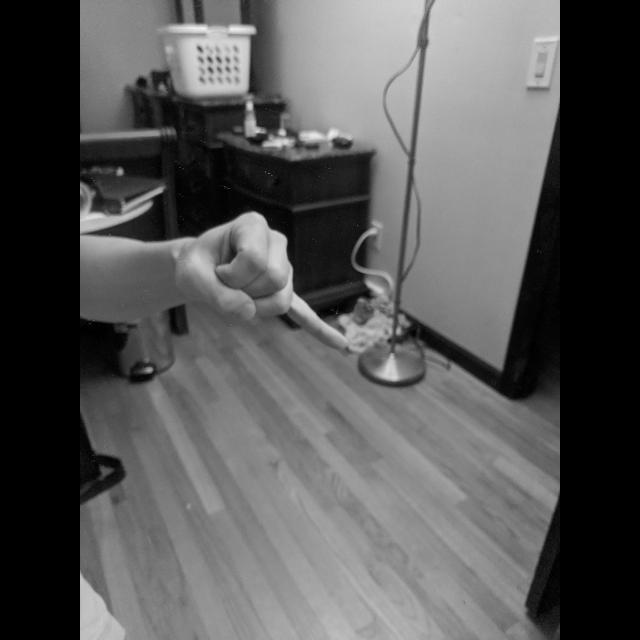J: (170, 209, 356, 359)
